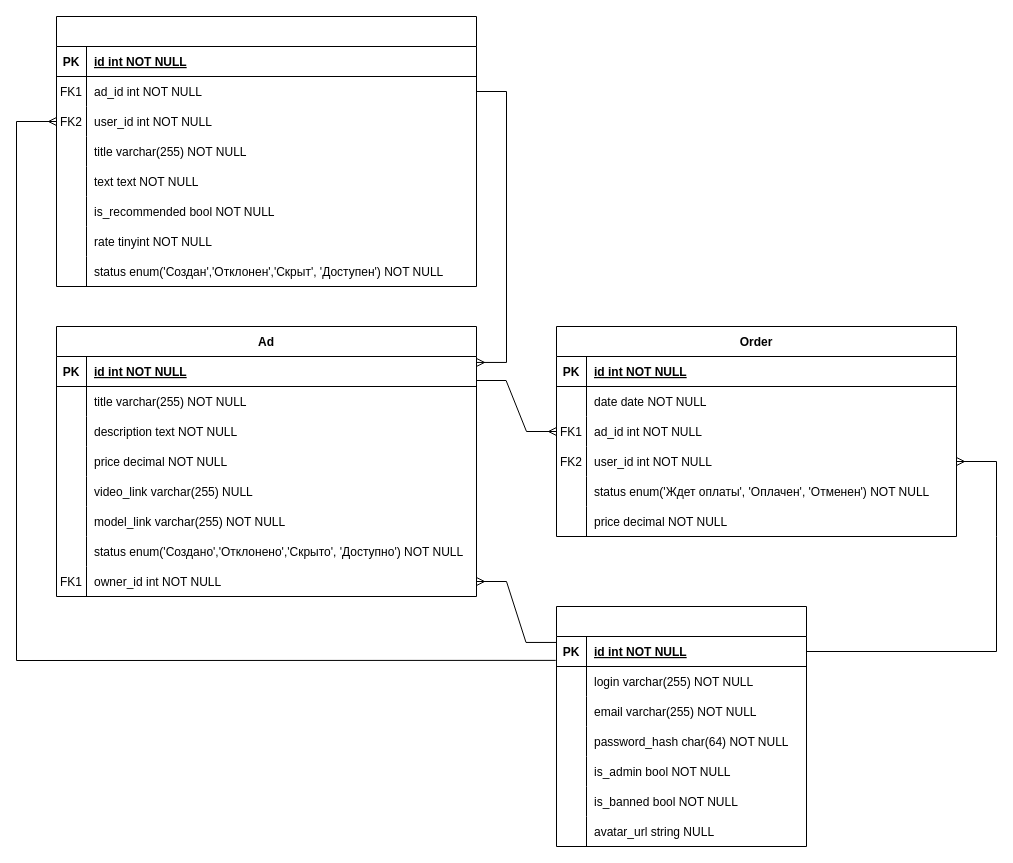
This 1013x863 diagram has some shape labels left out. Each missing label, with the box of its shape:
Review: (56, 16, 476, 286)
User: (556, 606, 806, 846)
